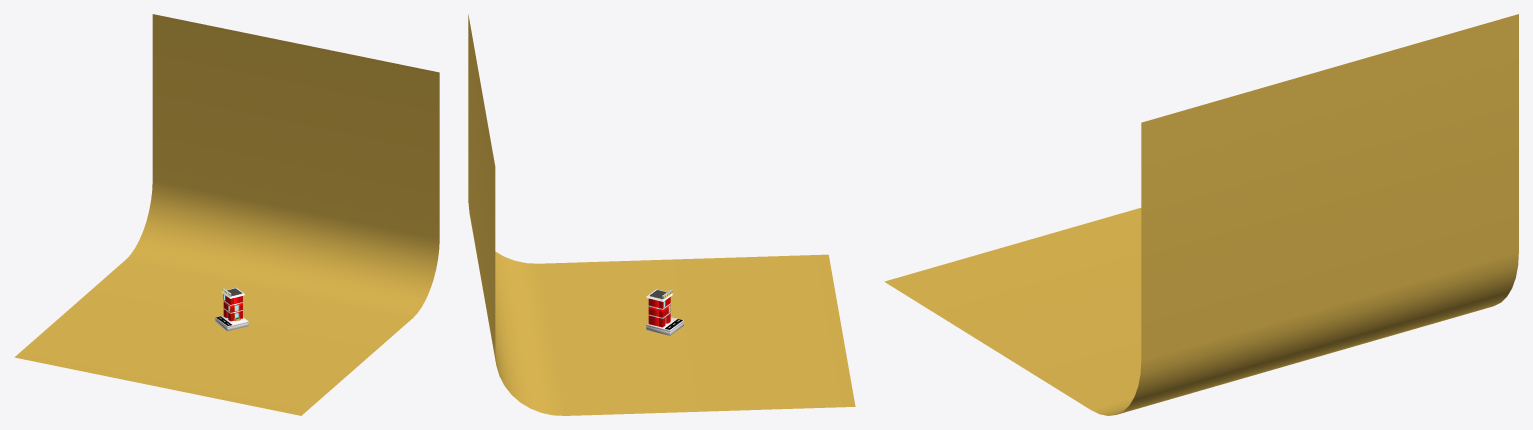
Rendered from tokoblend.glb.
3 renders of one model, left to right at view 1: azimuth 30°, elevation 25°; view 2: azimuth 150°, elevation 25°; view 3: azimuth 270°, elevation 25°, orthographic. The views are drawn at different scales.
Visible parts, largest first — view 1: Plane.003, Plane; view 2: Plane.003, Plane; view 3: Plane.003.
Boxes of the visible parts, x1,y1,x2,y2 form: Plane.003: [14, 14, 439, 415]; Plane: [223, 294, 243, 321]; Plane.003: [468, 14, 855, 415]; Plane: [648, 297, 671, 327]; Plane.003: [884, 14, 1518, 415].
Bounding box in the file's own units: 94.53 × 52.34 × 94.53.
